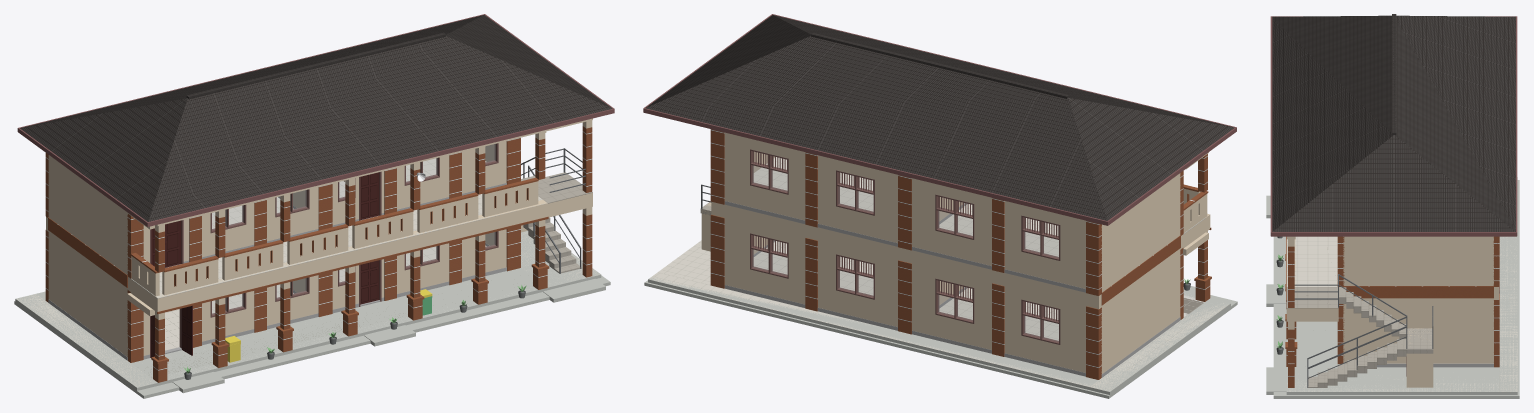
The model's file is gedung_kelas_belakang.glb.
3 views of the same model, side by side, from view 1: azimuth 30°, elevation 25°; view 2: azimuth 150°, elevation 25°; view 3: azimuth 270°, elevation 25° (orthographic). The views are drawn at different scales.
Parts seen in each view (by area): view 1: Atap_Genteng_Gelap_Charcoal, Dinding_Krem_Persik, Pilaster_Dan_Tiang_Terracotta, Curb_Dan_Tangga_Beton, Lisplang_Marun_Gelap, Daun_Pintu_Panel_Kayu, Selasar_Dan_Lantai_1F_Putih, Kusen_Pintu_Jendela_Coklat, Anak_Tangga_Keramik_Abu, Kaca_Jendela_Transparan, Plint_Dinding_Abu, Balkon_Lantai_2_Krem (+2 smaller); view 2: Atap_Genteng_Gelap_Charcoal, Dinding_Krem_Persik, Pilaster_Dan_Tiang_Terracotta, Curb_Dan_Tangga_Beton, Selasar_Dan_Lantai_1F_Putih, Kusen_Pintu_Jendela_Coklat, Kaca_Jendela_Transparan, Lisplang_Marun_Gelap, Plint_Dinding_Abu, Lantai_2_Kelas_Kosong; view 3: Atap_Genteng_Gelap_Charcoal, Dinding_Krem_Persik, Curb_Dan_Tangga_Beton, Anak_Tangga_Keramik_Abu, Pilaster_Dan_Tiang_Terracotta, Lisplang_Marun_Gelap, Balkon_Lantai_2_Krem, Selasar_Dan_Lantai_1F_Putih, Railing_Besi_Tangga_Hitam, Plint_Dinding_Abu.
Boxes of the visible parts, <box> form: Atap_Genteng_Gelap_Charcoal: <box>20,15,612,221</box>; Dinding_Krem_Persik: <box>46,118,592,356</box>; Pilaster_Dan_Tiang_Terracotta: <box>45,126,592,382</box>; Curb_Dan_Tangga_Beton: <box>14,231,610,398</box>; Lisplang_Marun_Gelap: <box>17,14,614,226</box>; Daun_Pintu_Panel_Kayu: <box>150,172,379,357</box>; Selasar_Dan_Lantai_1F_Putih: <box>15,231,600,387</box>; Kusen_Pintu_Jendela_Coklat: <box>150,143,498,357</box>; Anak_Tangga_Keramik_Abu: <box>521,172,592,273</box>; Kaca_Jendela_Transparan: <box>212,144,495,314</box>; Plint_Dinding_Abu: <box>48,183,506,360</box>; Balkon_Lantai_2_Krem: <box>130,194,547,298</box>; Atap_Genteng_Gelap_Charcoal: <box>645,15,1234,220</box>; Dinding_Krem_Persik: <box>701,132,1210,373</box>; Pilaster_Dan_Tiang_Terracotta: <box>710,129,1211,379</box>; Curb_Dan_Tangga_Beton: <box>644,242,1237,398</box>; Selasar_Dan_Lantai_1F_Putih: <box>649,240,1230,392</box>; Kusen_Pintu_Jendela_Coklat: <box>750,149,1060,344</box>; Kaca_Jendela_Transparan: <box>752,166,1058,341</box>; Lisplang_Marun_Gelap: <box>643,14,1236,225</box>; Plint_Dinding_Abu: <box>724,201,1180,377</box>; Lantai_2_Kelas_Kosong: <box>753,157,1058,256</box>; Atap_Genteng_Gelap_Charcoal: <box>1272,14,1515,231</box>; Dinding_Krem_Persik: <box>1286,236,1498,387</box>; Curb_Dan_Tangga_Beton: <box>1266,177,1519,398</box>; Anak_Tangga_Keramik_Abu: <box>1286,287,1433,387</box>; Pilaster_Dan_Tiang_Terracotta: <box>1285,236,1499,387</box>; Lisplang_Marun_Gelap: <box>1270,16,1517,236</box>; Balkon_Lantai_2_Krem: <box>1286,236,1337,286</box>; Selasar_Dan_Lantai_1F_Putih: <box>1287,181,1517,392</box>; Railing_Besi_Tangga_Hitam: <box>1294,274,1433,387</box>; Plint_Dinding_Abu: <box>1344,363,1493,367</box>.
Size of the model in its own units: 19.26 by 9.02 by 9.49.
Materials: 21 (8 with a texture image).
